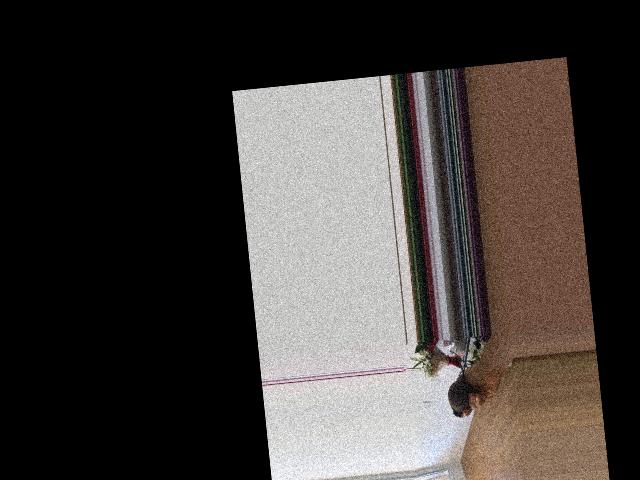beet: (443, 349, 473, 418)
